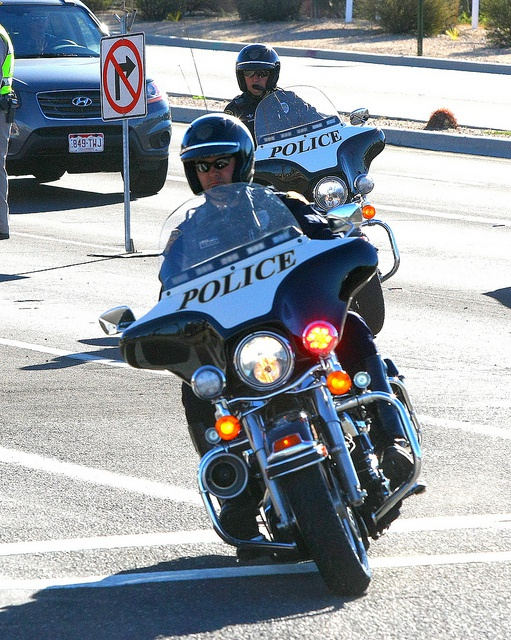non-vehicle: (99, 189, 422, 599), (255, 85, 412, 334)
